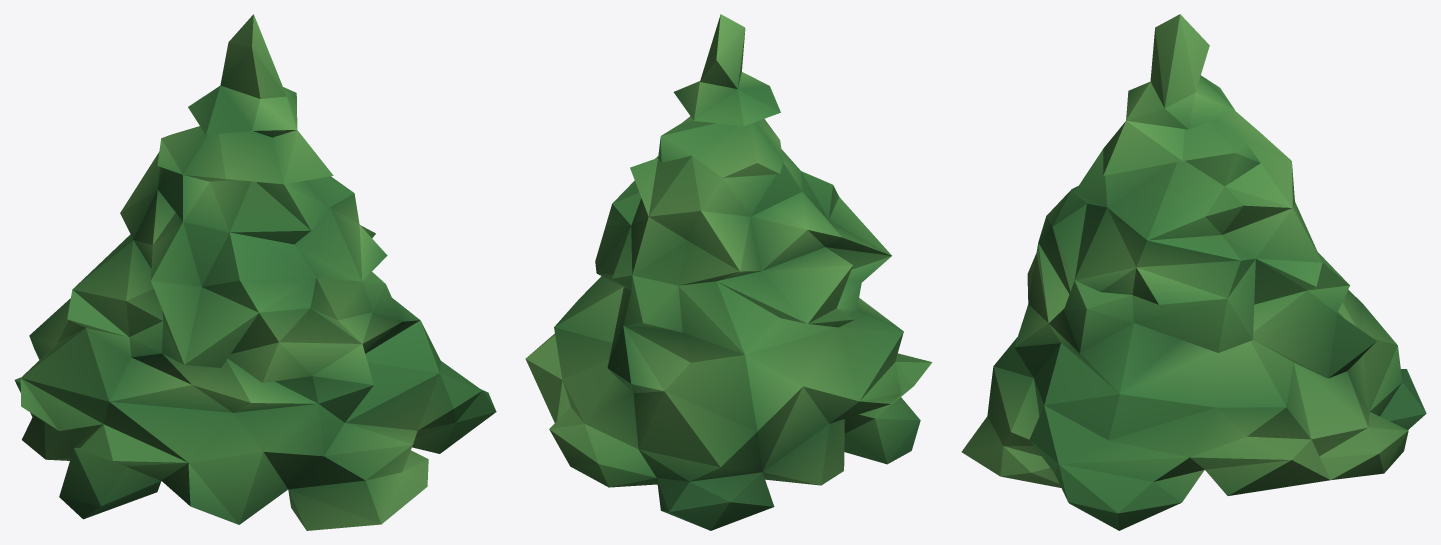
Rendered from pine_mature_medium_bushy_far.glb.
3 renders of one model, left to right at view 1: azimuth 30°, elevation 25°; view 2: azimuth 150°, elevation 25°; view 3: azimuth 270°, elevation 25°, orthographic. The views are drawn at different scales.
Parts seen in each view (by area): view 1: pine_mature_medium_bushy_LOD3; view 2: pine_mature_medium_bushy_LOD3; view 3: pine_mature_medium_bushy_LOD3.
Boxes of the visible parts, bbox=[...] form: pine_mature_medium_bushy_LOD3: bbox=[14, 14, 496, 530]; pine_mature_medium_bushy_LOD3: bbox=[525, 14, 932, 530]; pine_mature_medium_bushy_LOD3: bbox=[961, 14, 1426, 530].
Bounding box in the file's own units: 5.2 × 5.55 × 5.13.
